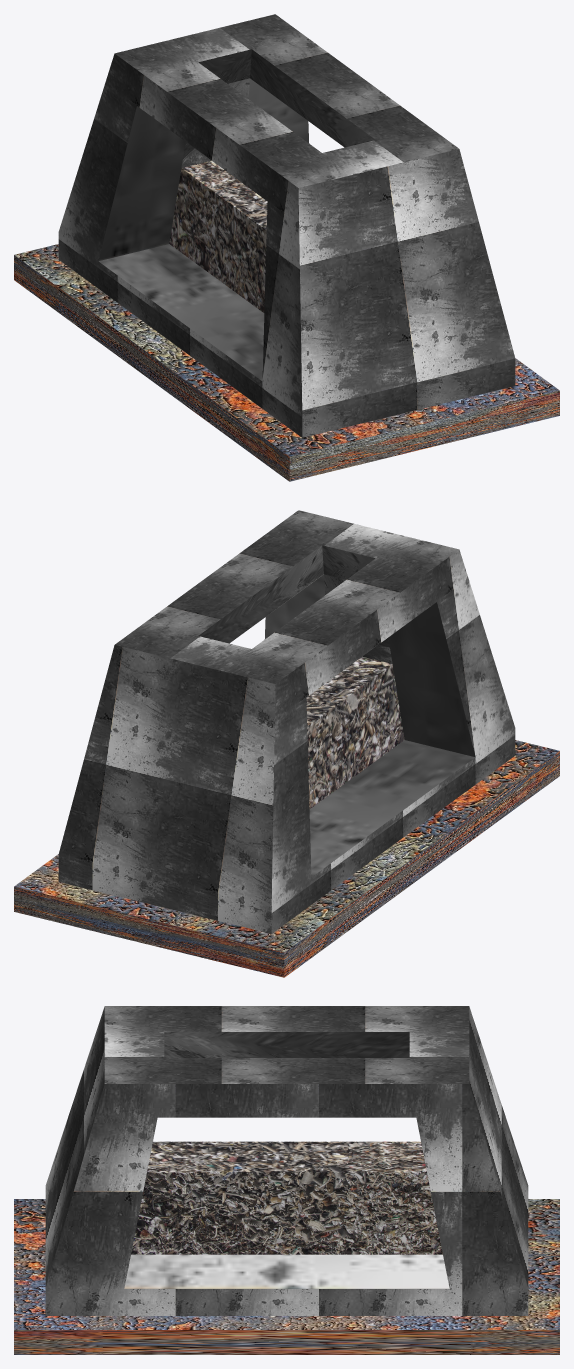
Rendered from Machin.fbx.
3 views of the same model, one above another, from view 1: azimuth 30°, elevation 25°; view 2: azimuth 150°, elevation 25°; view 3: azimuth 270°, elevation 25° (orthographic).
Parts seen in each view (by area): view 1: Machin; view 2: Machin; view 3: Machin.
Part boxes in pixels (x1,y1,x2,y2): Machin: (14, 14, 559, 481); Machin: (14, 510, 559, 977); Machin: (14, 1006, 559, 1354).
Bounding box in the file's own units: 113 × 98.83 × 200.
